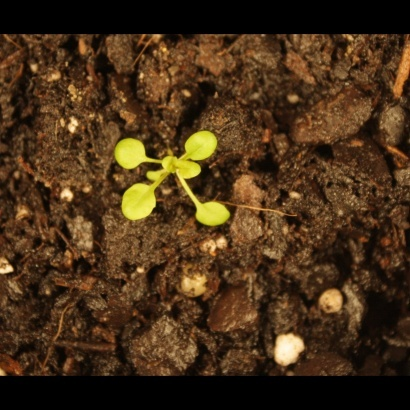leaf: (179, 121, 229, 165), (115, 178, 159, 227), (186, 195, 236, 236), (107, 131, 150, 172), (159, 150, 184, 173), (180, 159, 203, 182), (144, 166, 167, 189)
